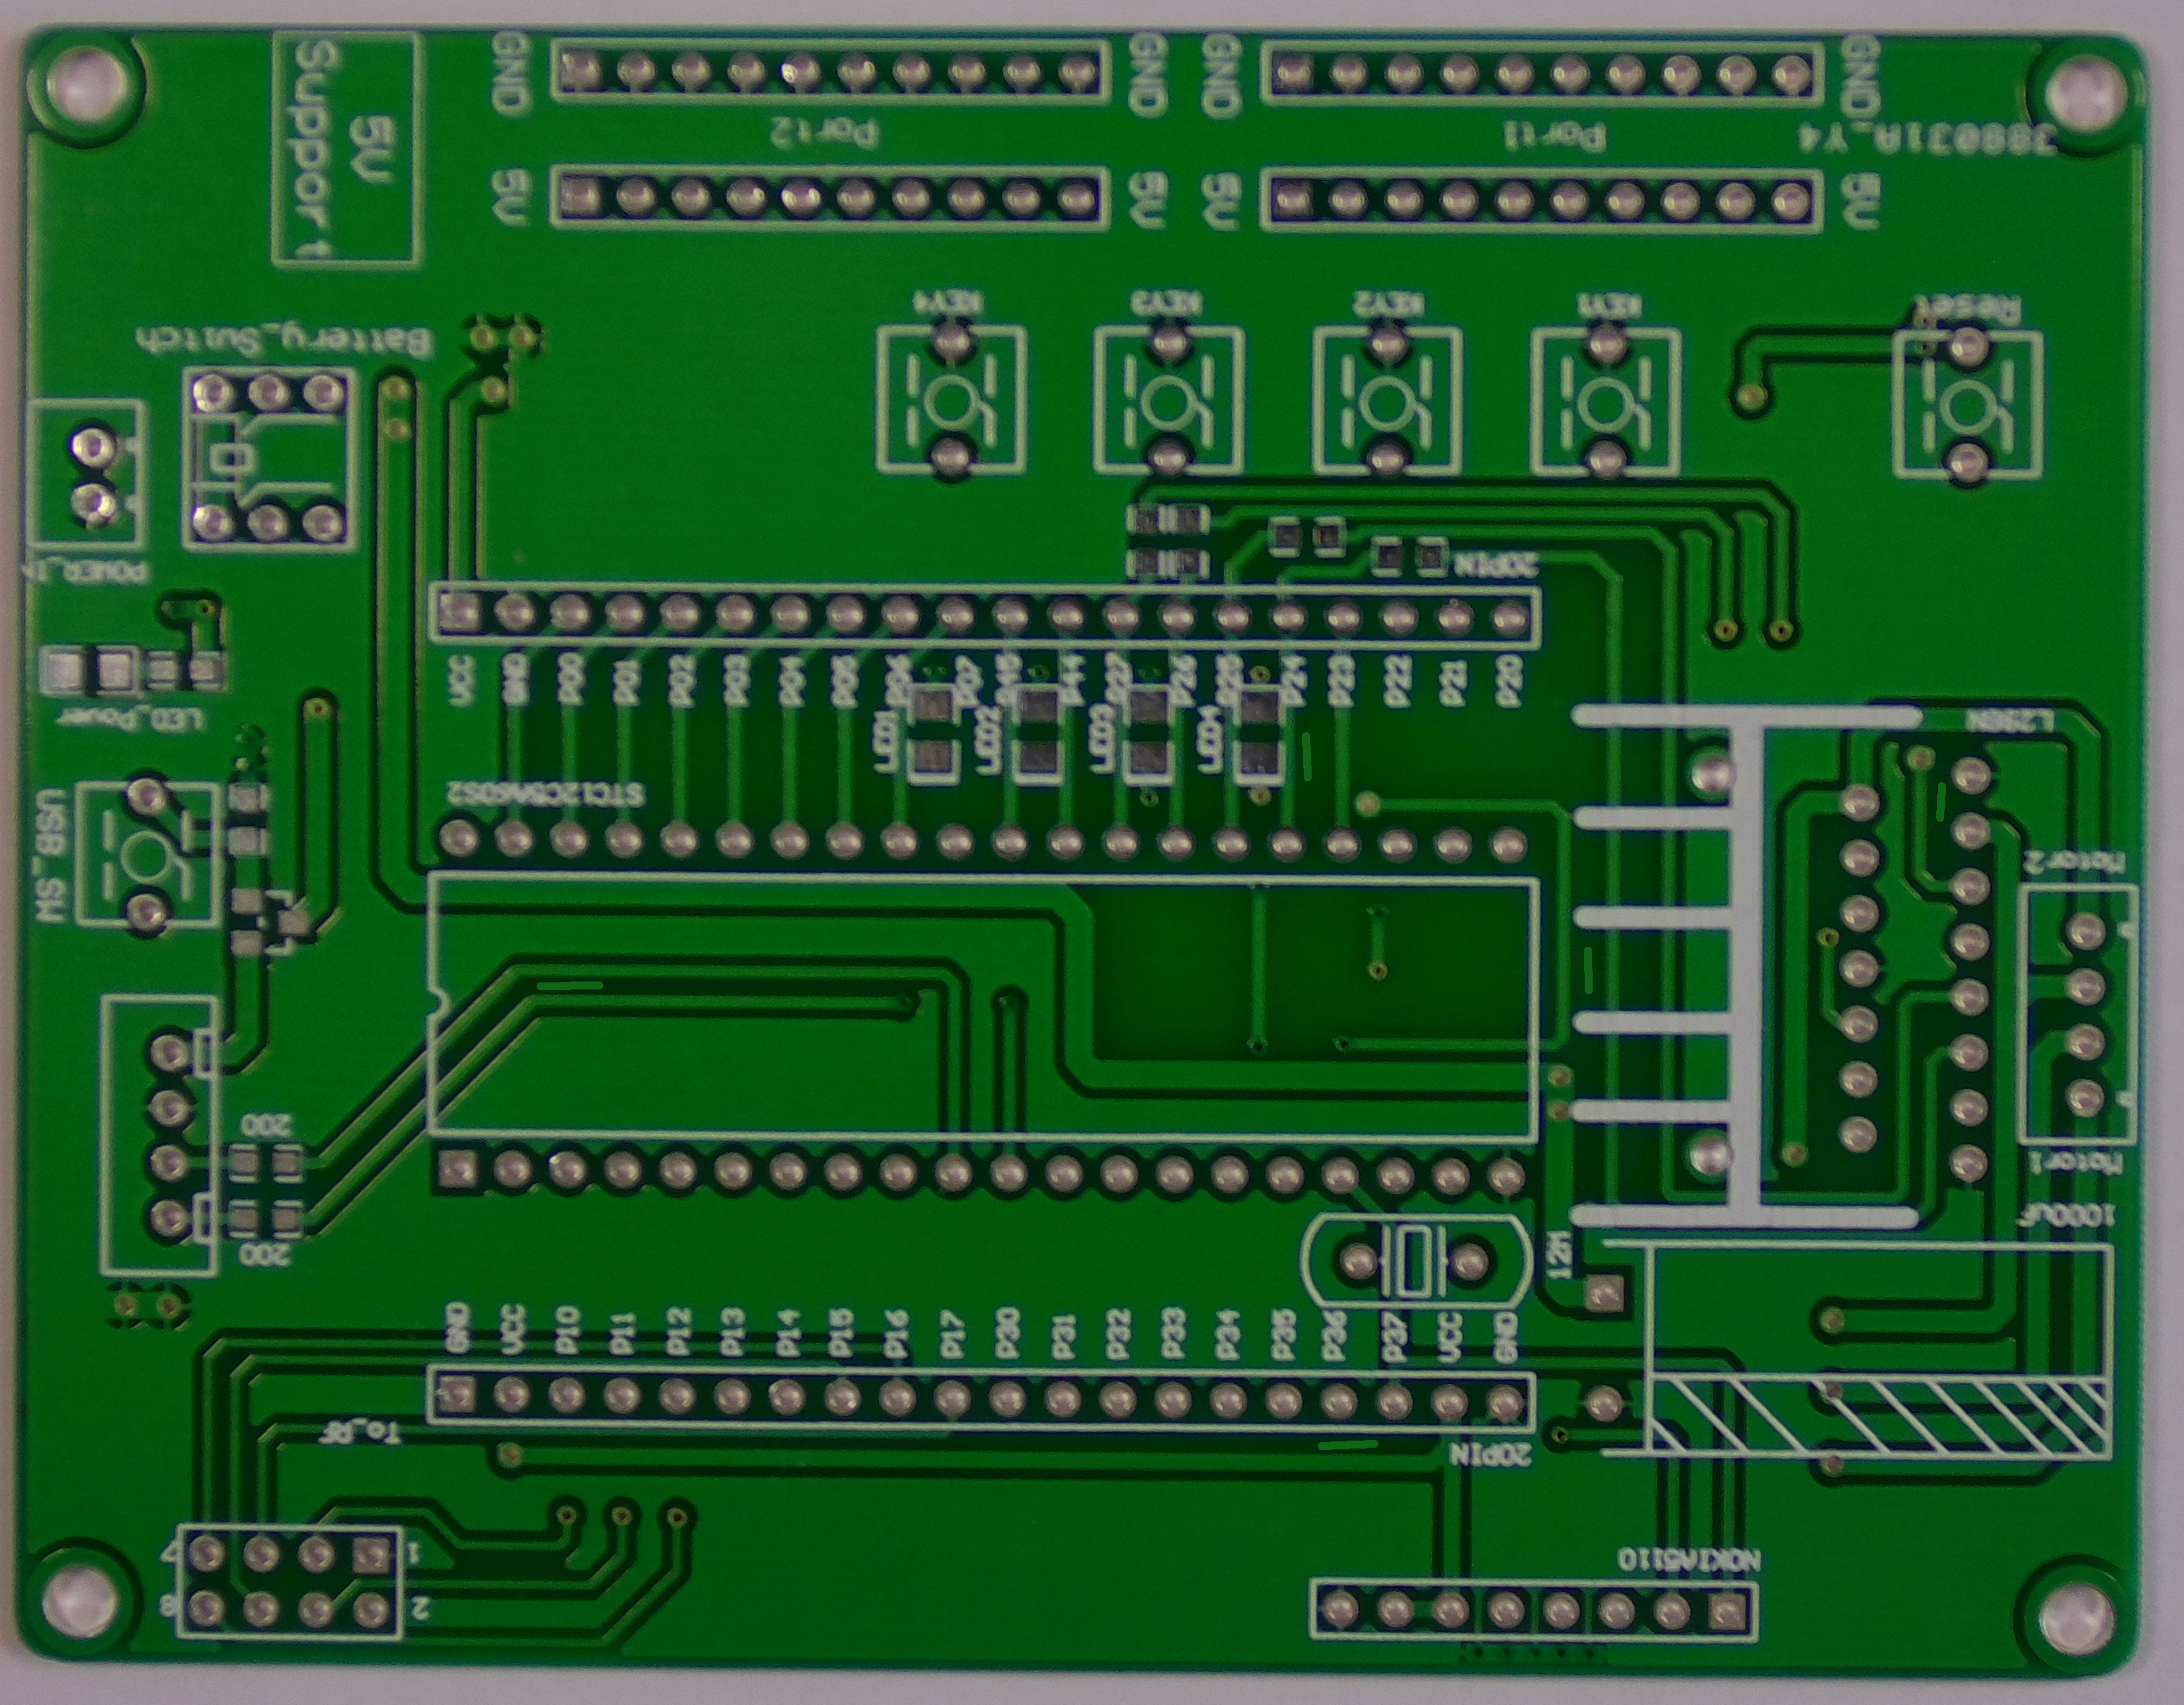spurious_copper: (525, 959, 613, 1009), (1302, 1425, 1392, 1469), (1918, 761, 1964, 833), (1289, 724, 1331, 790), (1568, 934, 1609, 1005)
